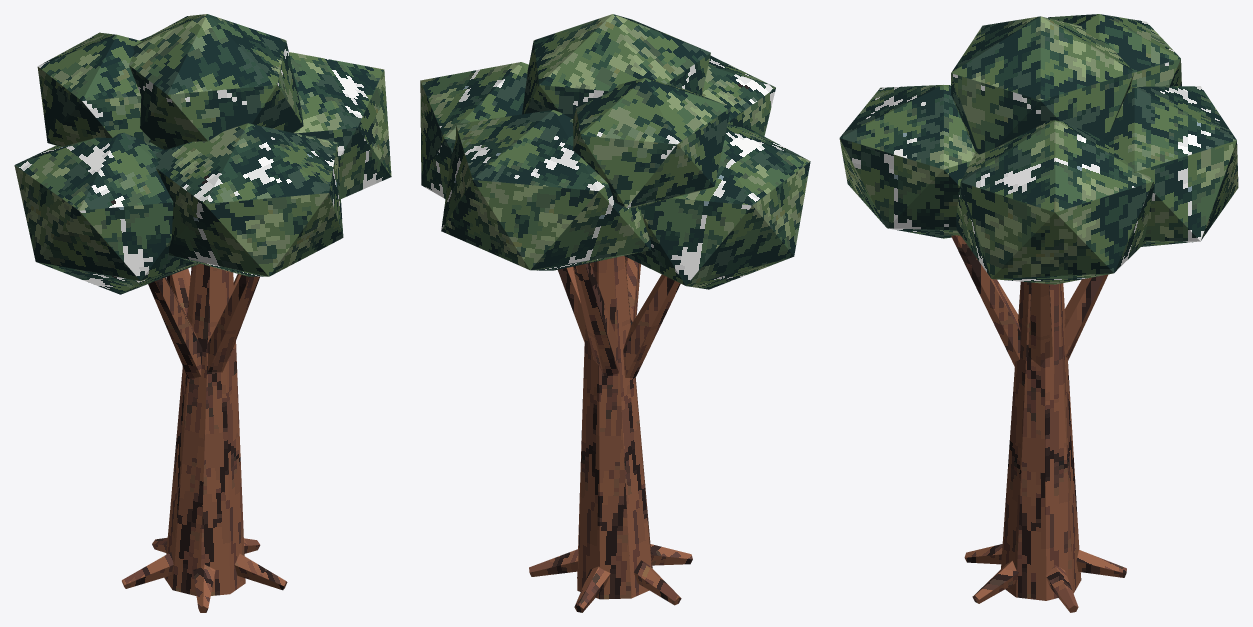
File: arvore.glb
The picture shows the model from 3 angles, left to right: view 1: azimuth 30°, elevation 25°; view 2: azimuth 150°, elevation 25°; view 3: azimuth 270°, elevation 25°; orthographic projection.
Visible parts, largest first — view 1: bosque_arvore; view 2: bosque_arvore; view 3: bosque_arvore.
Part boxes in pixels (bbox=[...]): bosque_arvore: bbox=[14, 14, 391, 612]; bosque_arvore: bbox=[420, 14, 810, 612]; bosque_arvore: bbox=[839, 14, 1238, 612].
Bounding box in the file's own units: 1.42 × 2.13 × 1.36.
Materials: 2 (2 with a texture image).
